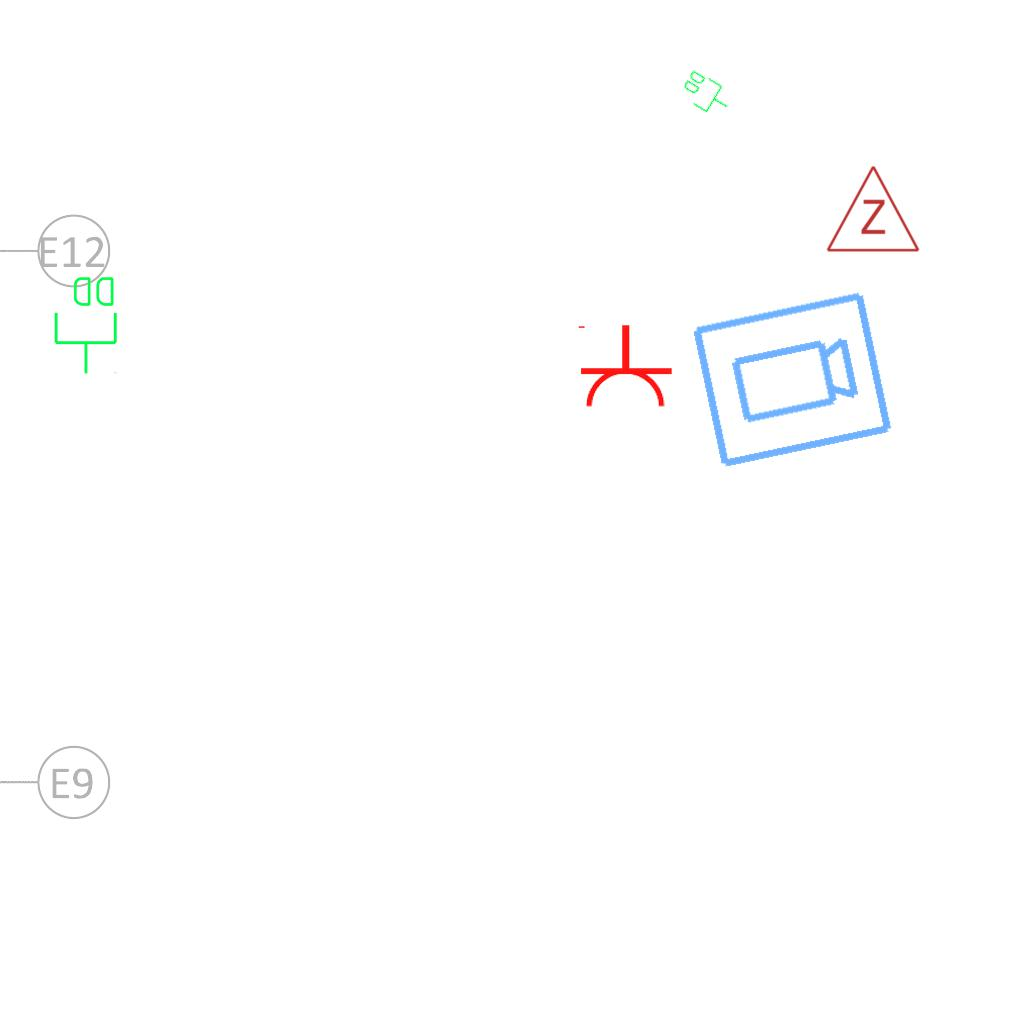Datenanschluss_zweifach: (52, 273, 121, 376), (675, 66, 738, 122)
KFO_Kamera_mit_Festobjektiv: (686, 286, 898, 476)
Schukosteckdose_einfach: (574, 323, 674, 410)
Zimmersignalleuchte: (823, 159, 921, 259)
